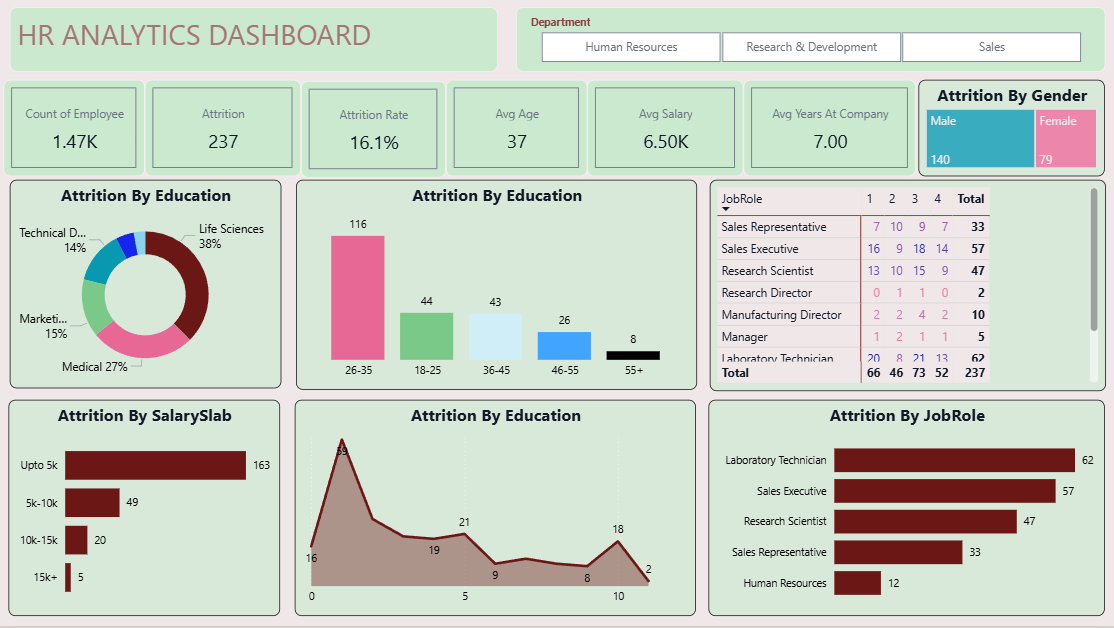

What the dashboard file says about the page in this screenshot:
{"tool":"powerbi","page":{"name":"Page 1","canvas":[1280,720],"ordinal":0},"visuals":[{"type":"cardVisual","title":"Count of Em","fields":{"Data":["Count(HR_Analytics.EmpID)"]},"box":[8.9,95.7,161.4,110],"z":0},{"type":"cardVisual","title":"Count of Em","fields":{"Data":["Sum(HR_Analytics.AttritionCount)"]},"box":[170.3,95.7,178.6,110],"z":1000},{"type":"cardVisual","title":"Count of Em","fields":{"Data":["HR_Analytics.AttritionRate"]},"box":[348.9,97.1,165.7,110],"z":2000},{"type":"cardVisual","title":"Count of Em","fields":{"Data":["Avg(HR_Analytics.Age)"]},"box":[514.6,95.7,161.4,110],"z":3000},{"type":"cardVisual","title":"Count of Em","fields":{"Data":["Avg(HR_Analytics.MonthlyIncome)"]},"box":[676,95.7,178.6,110],"z":4000},{"type":"cardVisual","title":"Count of Em","fields":{"Data":["Avg(HR_Analytics.YearsAtCompany)"]},"box":[854.6,95.7,197.1,110],"z":5000},{"type":"donutChart","title":"Attrition By Education","fields":{"Category":["HR_Analytics.EducationField"],"Y":["Sum(HR_Analytics.AttritionCount)"]},"box":[15.7,209.4,310,238.6],"z":6000},{"type":"columnChart","title":"Attrition By Education","fields":{"Category":["HR_Analytics.AgeGroup"],"Y":["Sum(HR_Analytics.AttritionCount)"]},"box":[342.9,209.4,458.6,240],"z":7000},{"type":"pivotTable","title":"Attrition By Education","fields":{"Values":["Sum(HR_Analytics.AttritionCount)"],"Rows":["HR_Analytics.JobRole"],"Columns":["HR_Analytics.JobSatisfaction"]},"box":[815.7,209.4,452.9,241.4],"z":8000},{"type":"clusteredBarChart","title":"Attrition By SalarySlab","fields":{"Category":["HR_Analytics.SalarySlab"],"Y":["Sum(HR_Analytics.AttritionCount)"]},"box":[14.6,461.4,310,247.1],"z":9000},{"type":"clusteredBarChart","title":"Attrition By JobRole","fields":{"Category":["HR_Analytics.JobRole"],"Y":["Sum(HR_Analytics.AttritionCount)"]},"box":[814.6,461.4,452.9,247.1],"z":10000},{"type":"areaChart","title":"Attrition By Education","fields":{"Category":["HR_Analytics.YearsAtCompany"],"Y":["Sum(HR_Analytics.AttritionCount)"]},"box":[341.7,461.4,458.6,247.1],"z":11000},{"type":"treemap","title":"Attrition By Gender","fields":{"Group":["HR_Analytics.Gender"],"Values":["Sum(HR_Analytics.AttritionCount)"]},"box":[1054.6,95.7,212.9,110],"z":12000},{"type":"slicer","fields":{"Values":["HR_Analytics.Department"]},"box":[593.9,12.3,673.8,73.8],"z":13000},{"type":"textbox","box":[15.1,12.3,557.5,73.8],"z":14000}]}

Visuals, with their boxes in screenshot pixels (x1, y1, x2, y2), scaled from the page's 1280x720 canvas onto the 1114x628 screenshot:
"Count of Em" cardVisual: crop(8, 83, 148, 179)
"Count of Em" cardVisual: crop(148, 83, 304, 179)
"Count of Em" cardVisual: crop(304, 85, 448, 181)
"Count of Em" cardVisual: crop(448, 83, 588, 179)
"Count of Em" cardVisual: crop(588, 83, 744, 179)
"Count of Em" cardVisual: crop(744, 83, 915, 179)
"Attrition By Education" donutChart: crop(14, 183, 283, 391)
"Attrition By Education" columnChart: crop(298, 183, 698, 392)
"Attrition By Education" pivotTable: crop(710, 183, 1104, 393)
"Attrition By SalarySlab" clusteredBarChart: crop(13, 402, 283, 618)
"Attrition By JobRole" clusteredBarChart: crop(709, 402, 1103, 618)
"Attrition By Education" areaChart: crop(297, 402, 697, 618)
"Attrition By Gender" treemap: crop(918, 83, 1103, 179)
slicer - HR_Analytics.Department: crop(517, 11, 1103, 75)
textbox: crop(13, 11, 498, 75)
